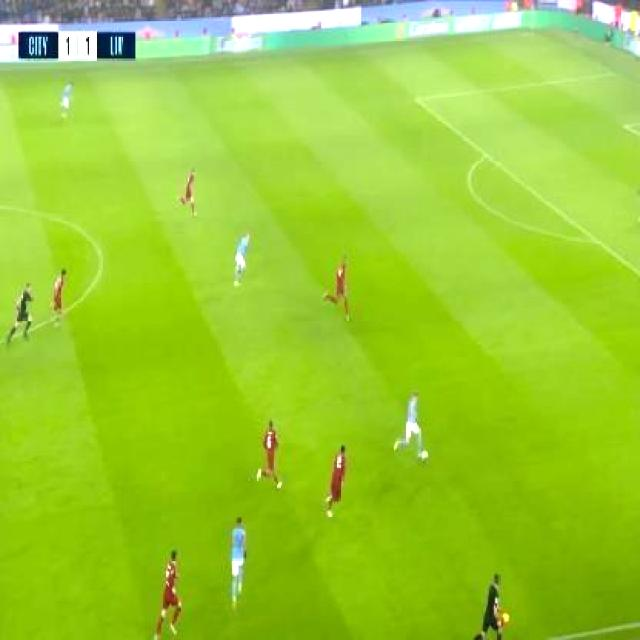bigarea_top_inner: (406, 88, 425, 110)
bigarea_top_outter: (605, 64, 620, 82)
bottom_arc_area_intersection: (586, 228, 605, 250)
corner: (518, 25, 538, 40)
smallarea_top_inner: (616, 116, 632, 136)
top_arc_area_intersection: (475, 143, 494, 165)
